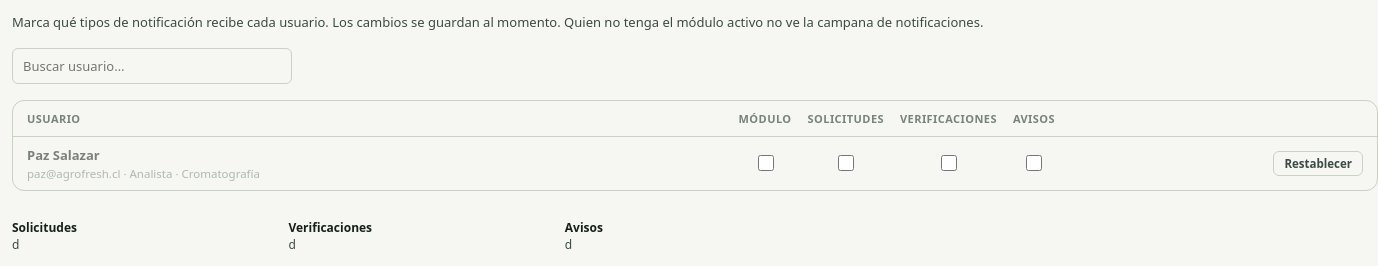
Test: SuscripcionesPanel › encender el módulo lo devuelve a lo predeterminado de su perfil
Click the checkbox named "Módulo de notificaciones para Paz Salazar".
click(766, 163)  # box [758,155,774,171]
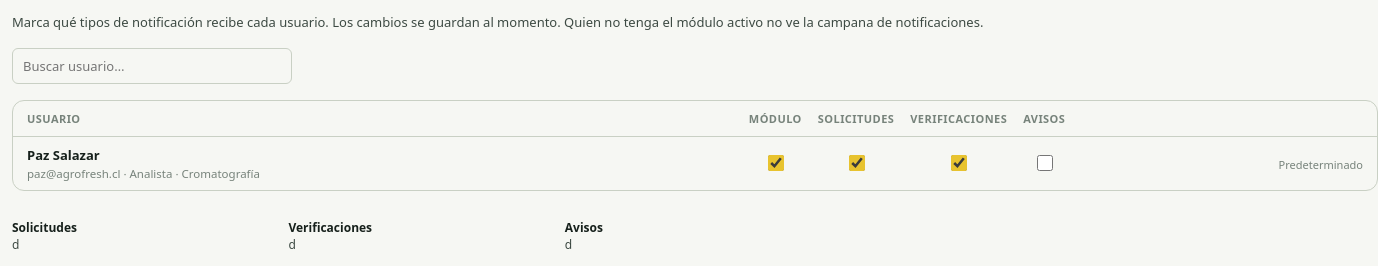
Check: the checkbox named "Módulo de notificaciones para Paz Salazar" is checked, box [768,155,784,171]
Check: the text "Predeterminado" is shown, box [1279,157,1363,172]
